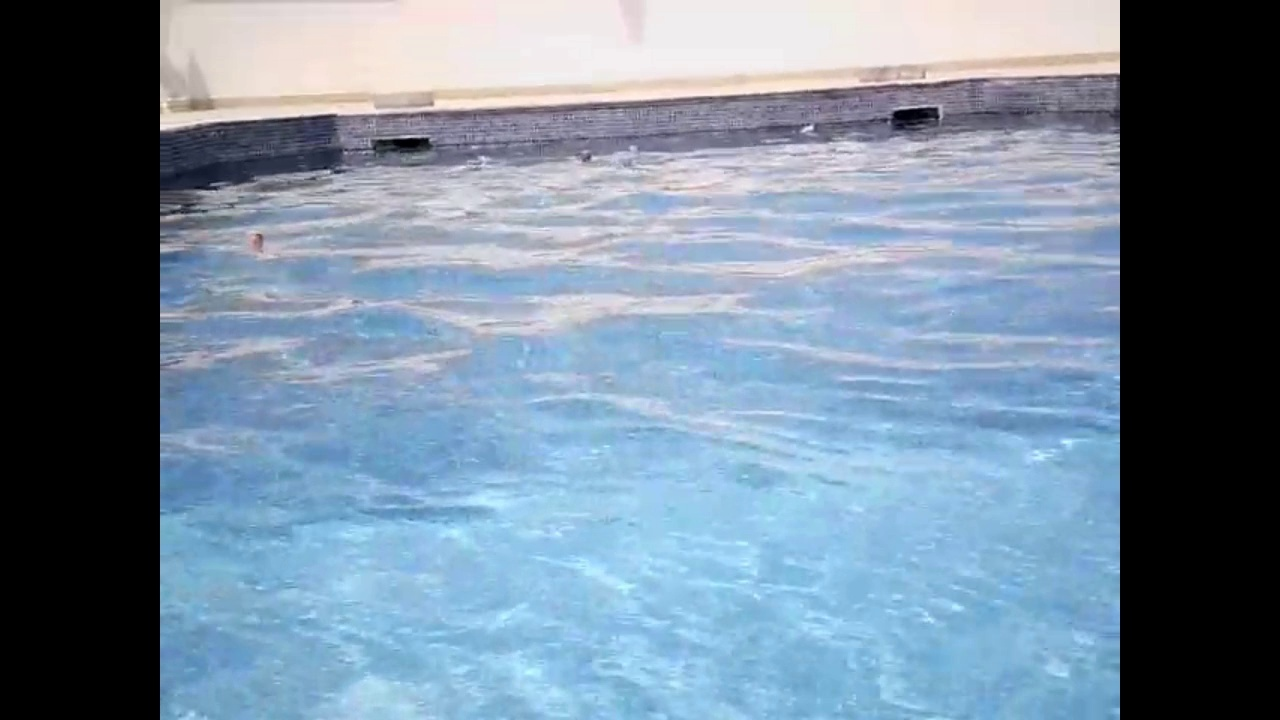debris: (238, 227, 266, 266), (794, 119, 823, 141), (575, 146, 598, 164)
